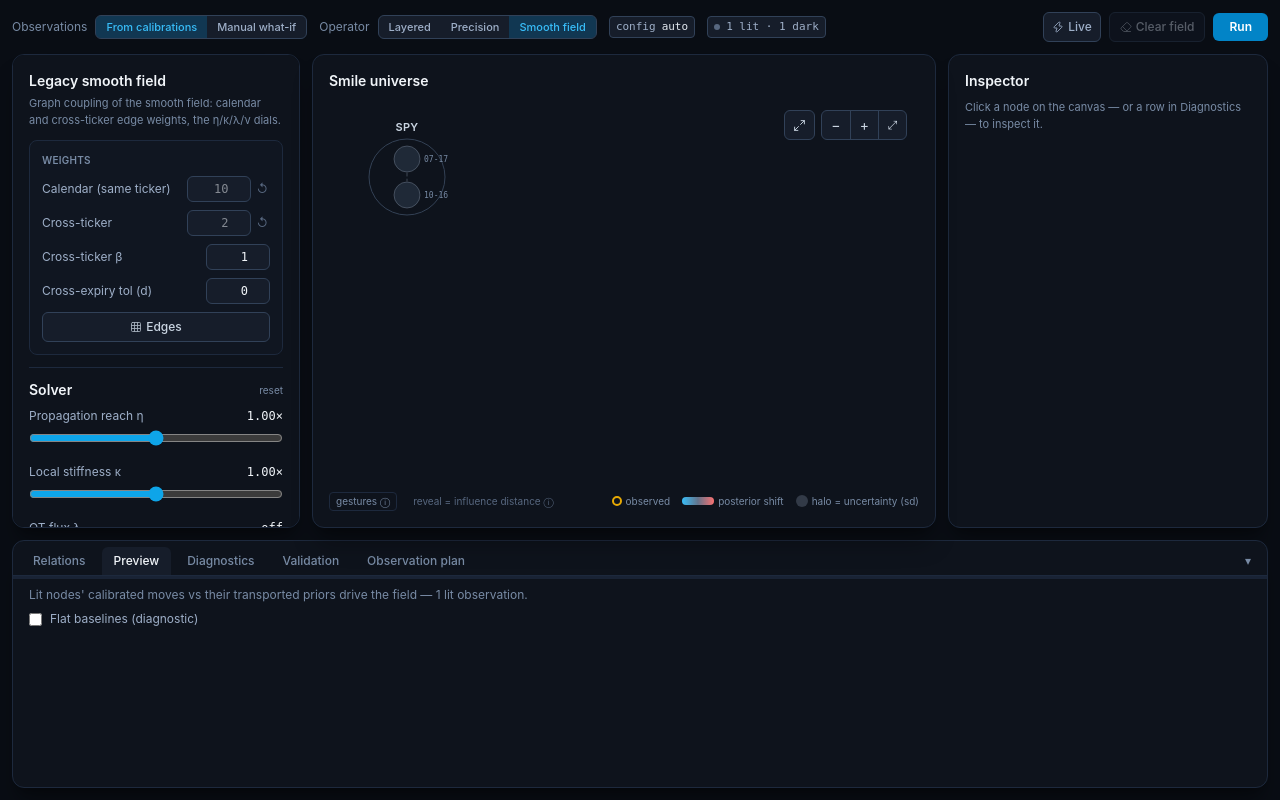
Test: Graph shell (U0) › manual what-if ships the pulses as syntheticObservations (U3)
Step 1. Click the button "Manual what-if" → (257, 27), box [207,16,306,38]
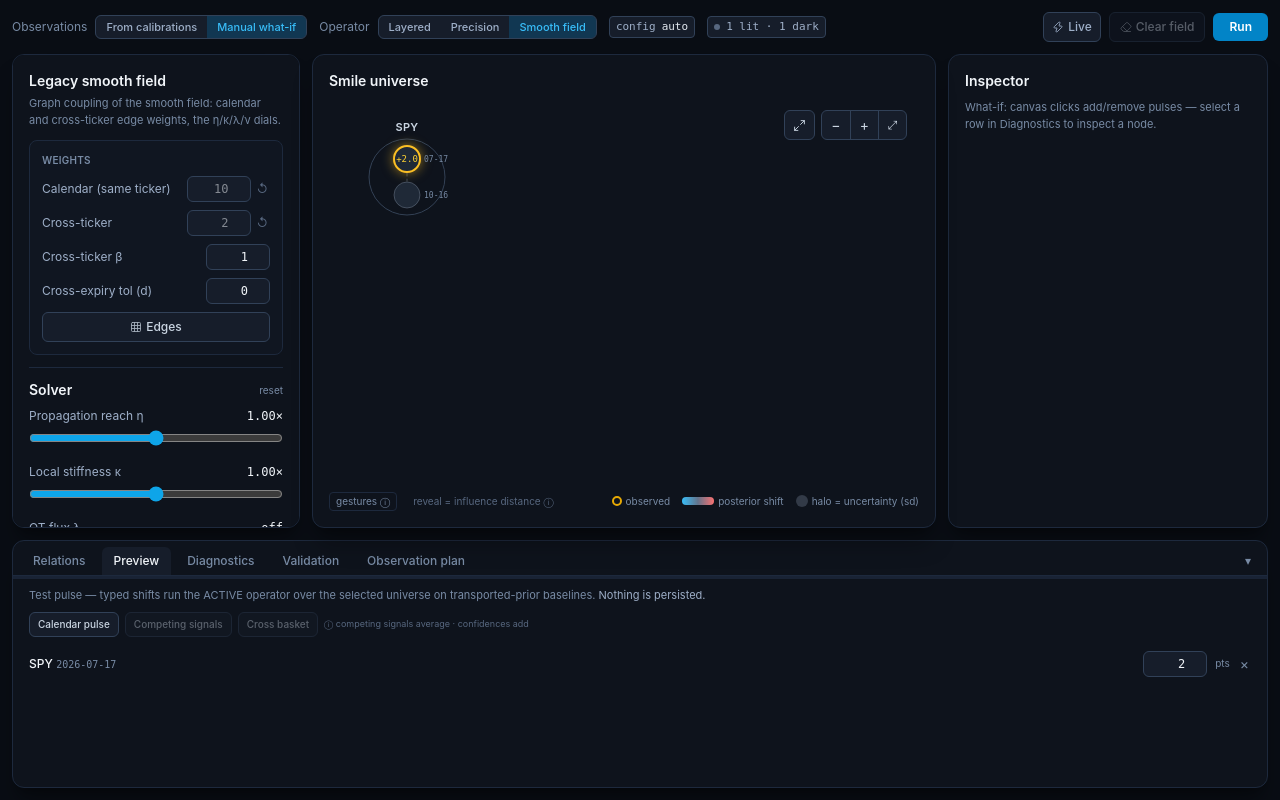
Step 2. Click the button "Run" → (1241, 27), box [1214,13,1268,41]
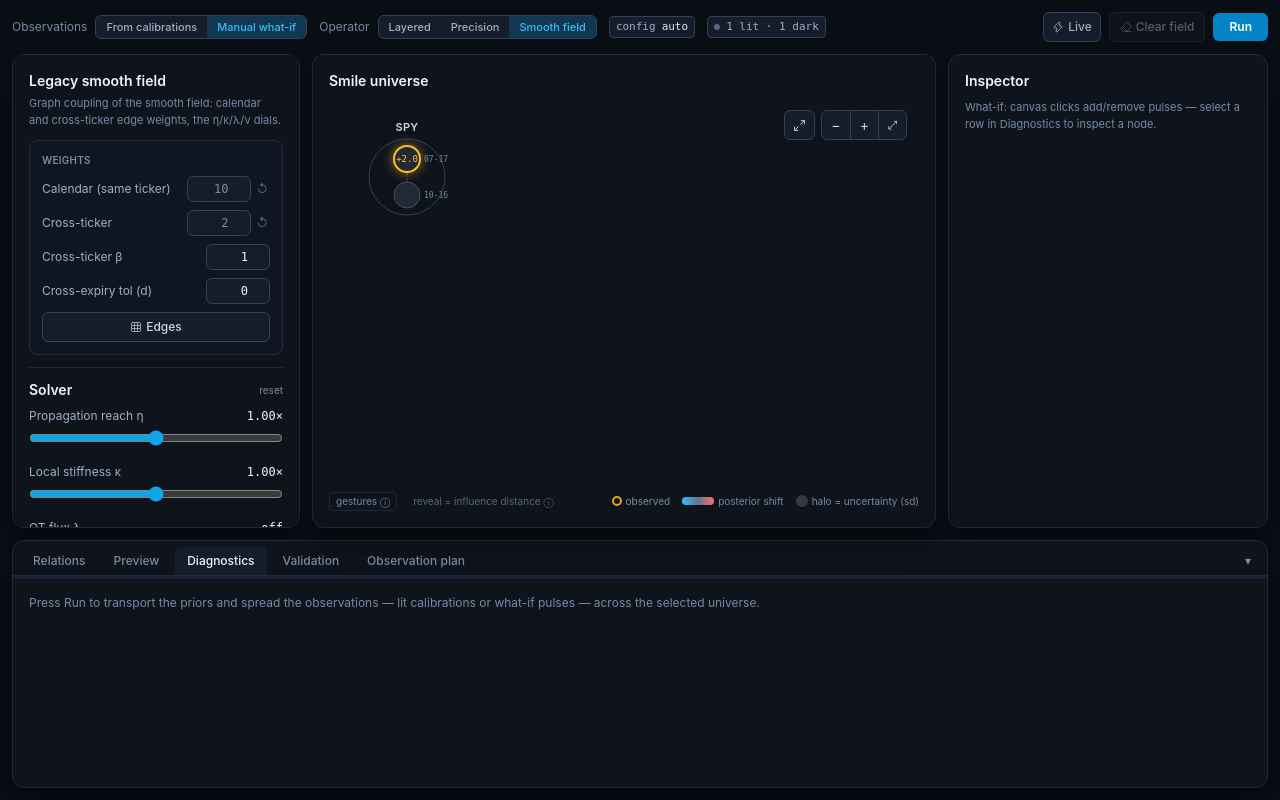
Expected: the text "Press Run to transport" is shown, [29,595,760,610]
